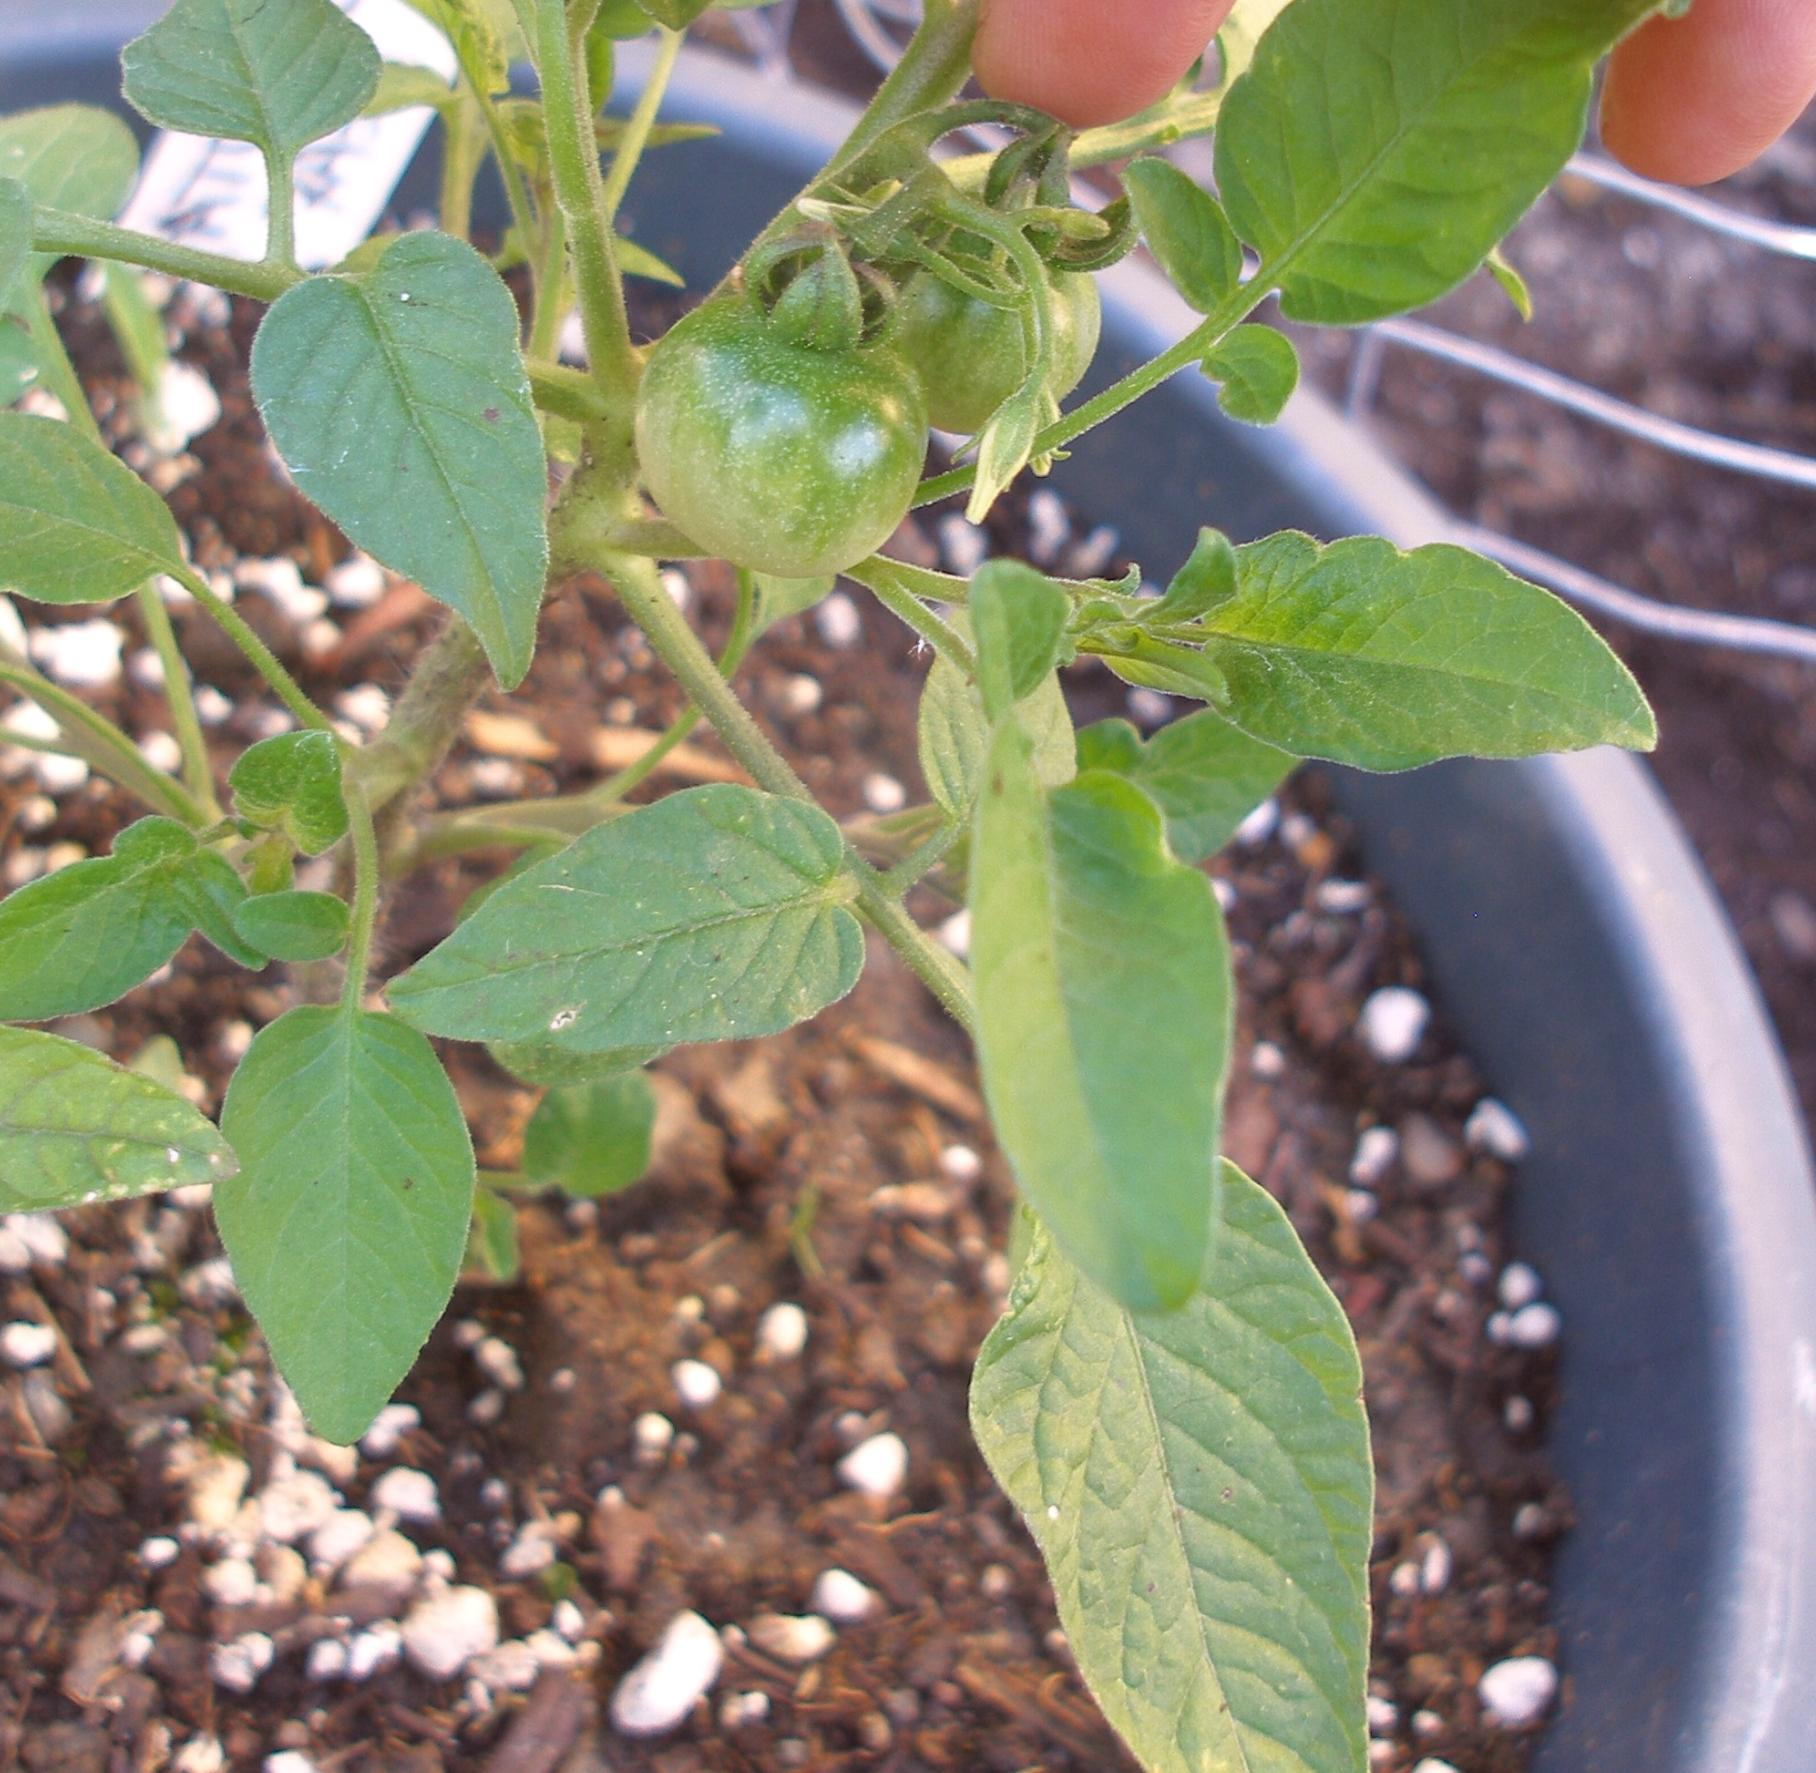Tomato leaf: (850, 1114, 1460, 1773), (1160, 0, 1706, 416), (375, 753, 918, 1133), (1252, 438, 1736, 849), (198, 226, 622, 641), (175, 973, 513, 1492), (971, 761, 1244, 1361), (0, 776, 310, 1046)
